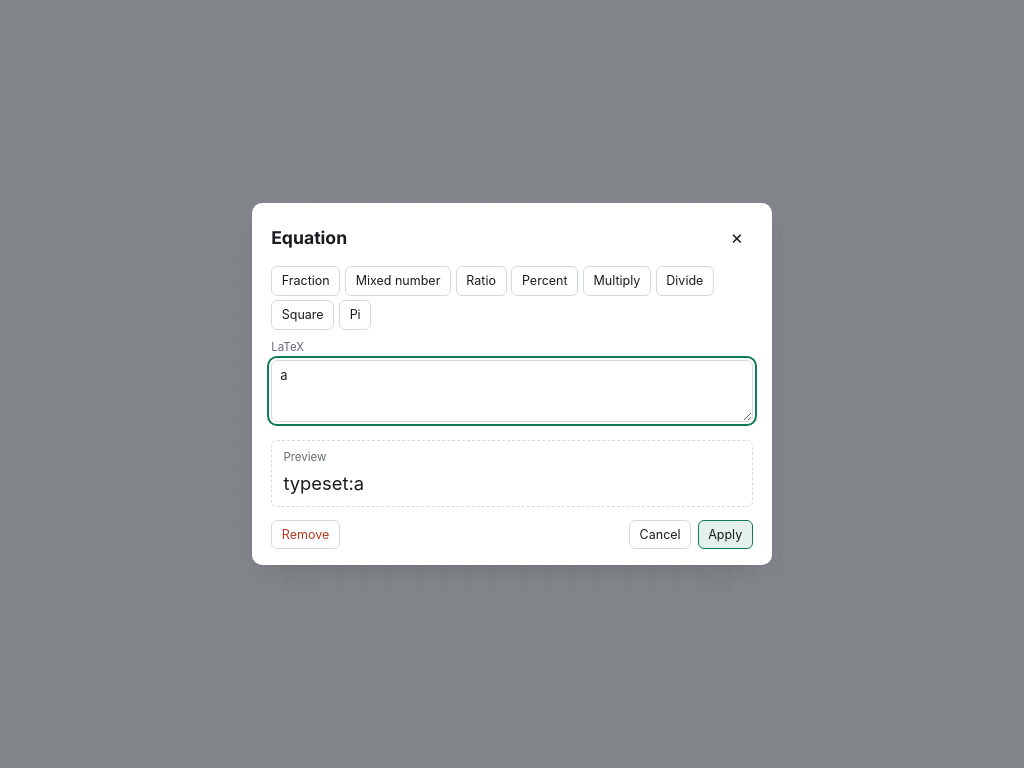
Test: MathPopover › inserts the one-click snippets at the caret
Check: the dialog is shown, box x1=252 y1=203 x2=772 y2=565
What coordinates should you click on to do the following:
click the button "Fraction"
I would click on:
 (306, 281)
Its box is x1=271 y1=266 x2=340 y2=296.
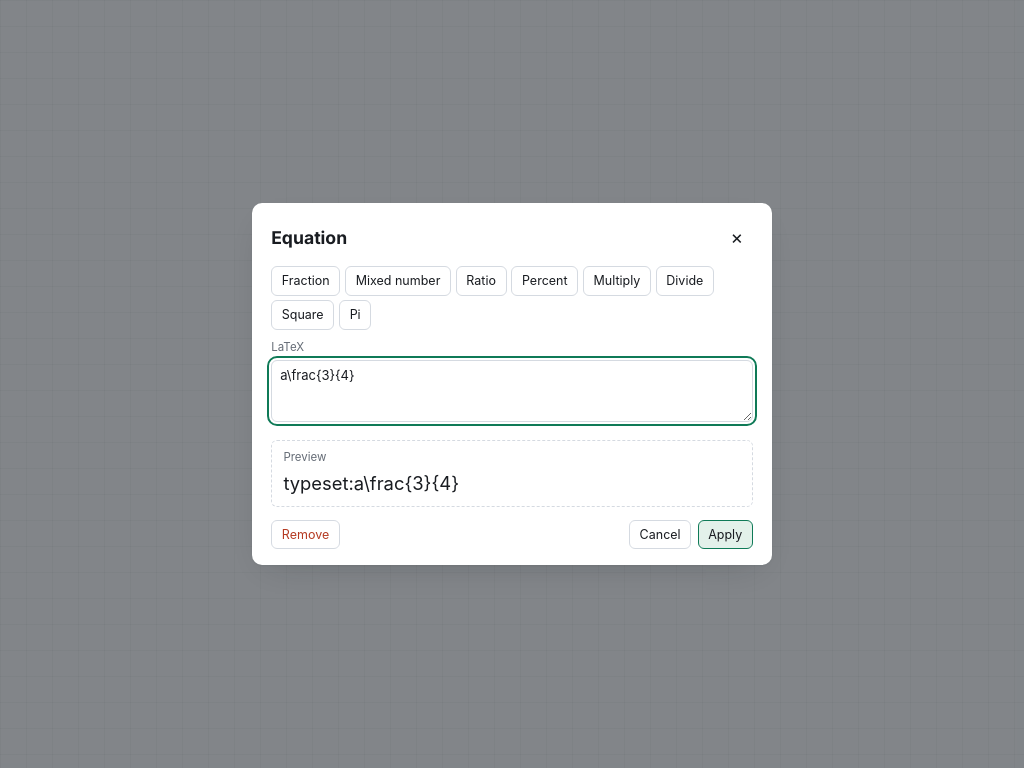
Check: the text box labelled "LaTeX" holds "a\\frac{3}{4}", box x1=271 y1=360 x2=753 y2=422
